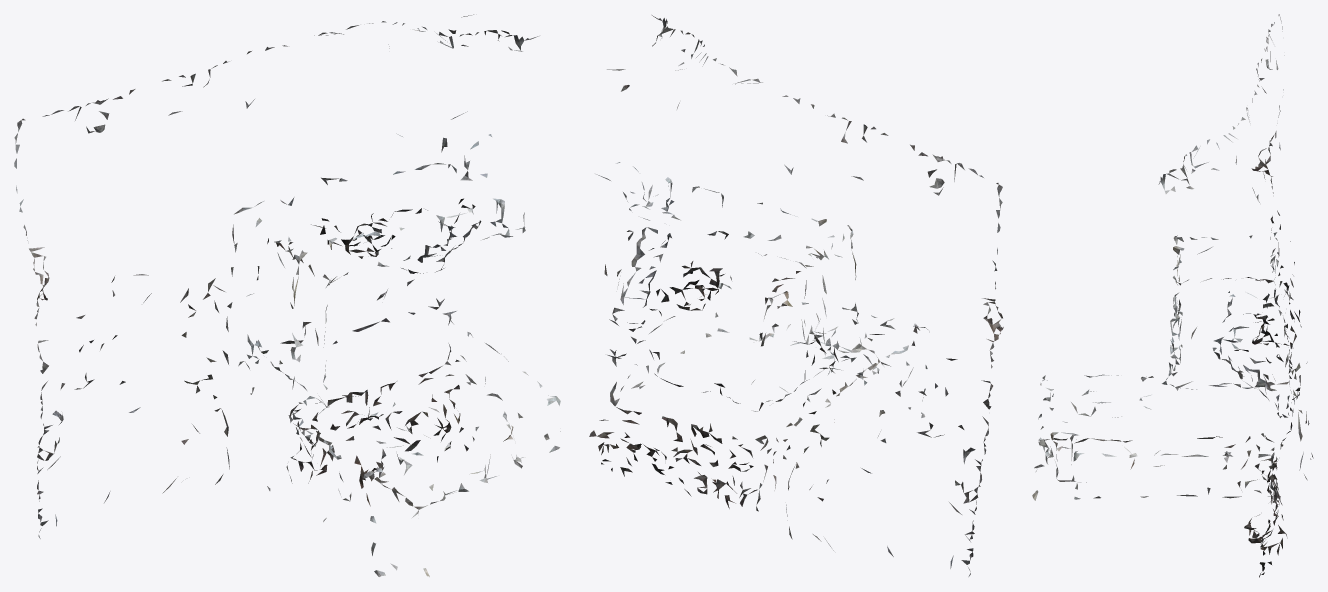
3 renders of one model, left to right at view 1: azimuth 30°, elevation 25°; view 2: azimuth 150°, elevation 25°; view 3: azimuth 270°, elevation 25°, orthographic. The views are drawn at different scales.
Size of the model in its own units: 6.94 by 6.87 by 4.22.
Materials: 1 (1 with a texture image).
